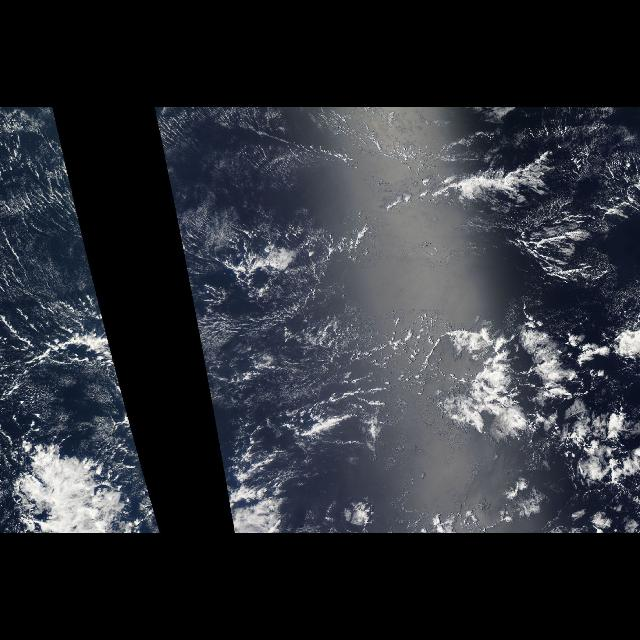Gravel: (12, 150, 112, 416)
Sugar: (178, 112, 364, 206), (210, 355, 324, 421)
